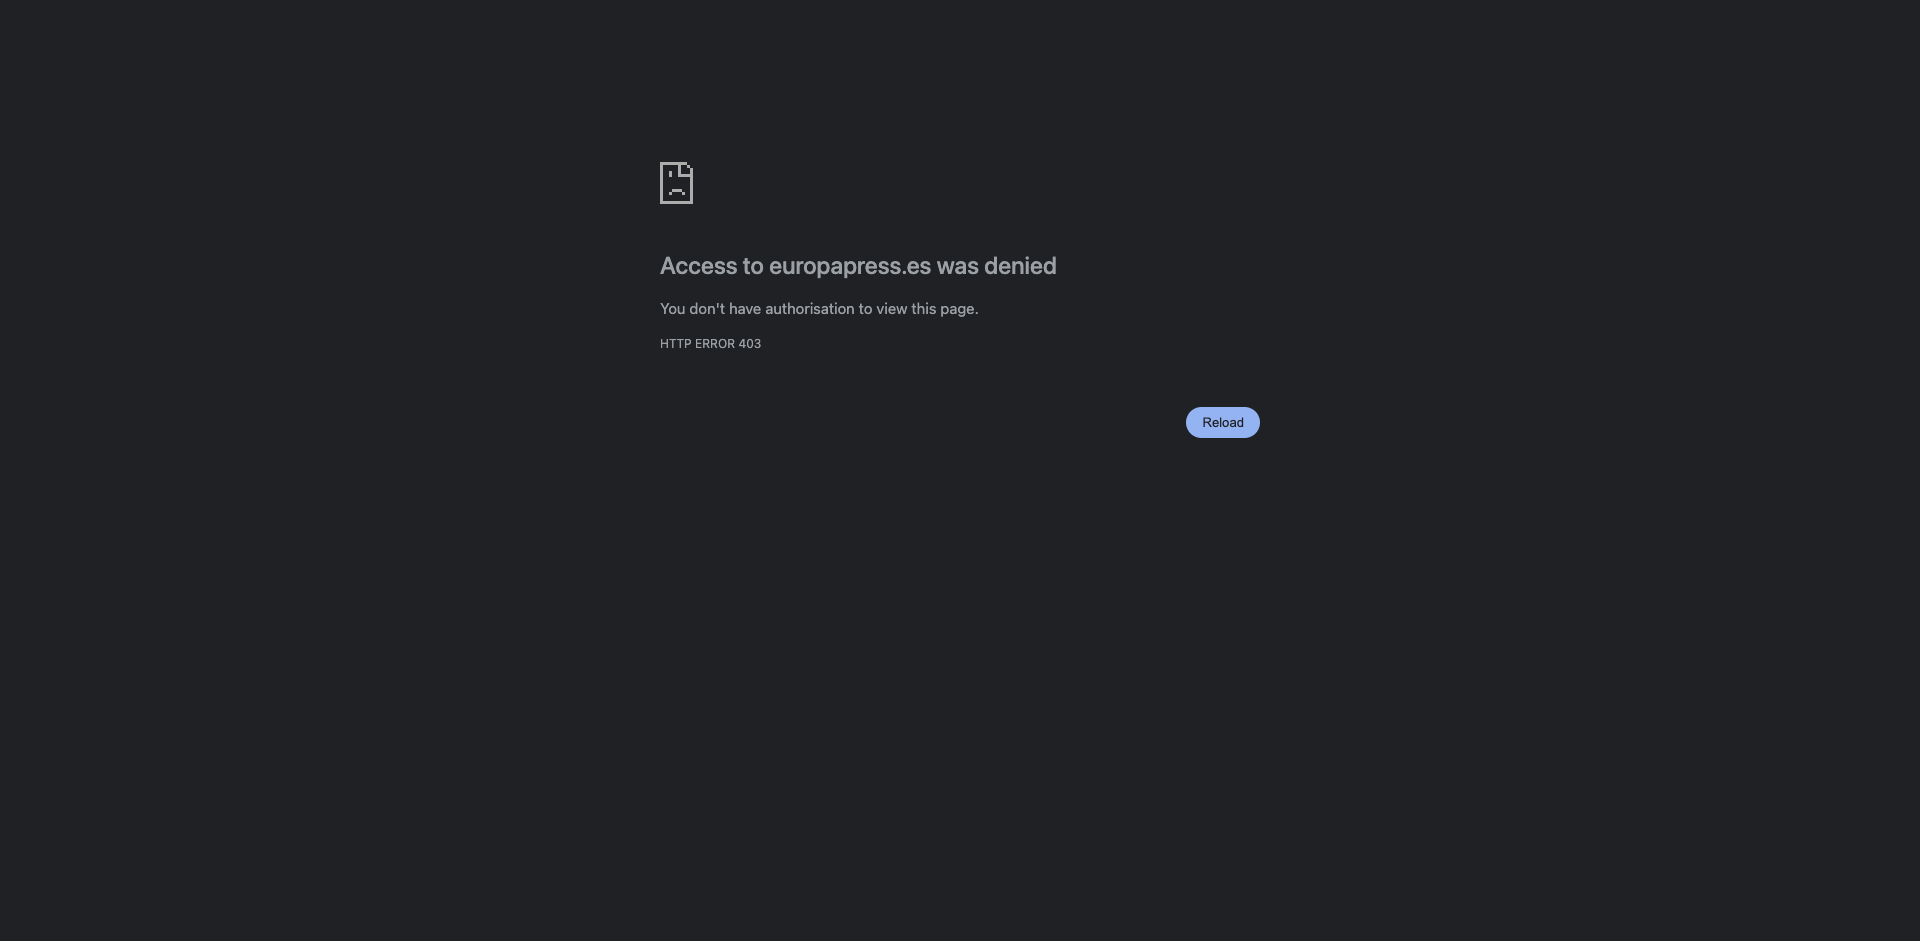button: (1187, 407, 1260, 437)
